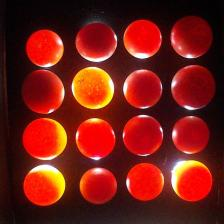fertile: (20, 70, 66, 114), (171, 66, 216, 110), (170, 15, 213, 58), (122, 114, 164, 156), (76, 22, 118, 63), (123, 69, 163, 109), (172, 116, 210, 154), (80, 166, 118, 204)
infertile: (22, 118, 68, 160), (72, 66, 114, 110), (23, 164, 66, 206), (172, 160, 212, 202), (76, 118, 115, 160), (25, 29, 64, 68), (126, 162, 165, 201), (124, 19, 162, 59)
